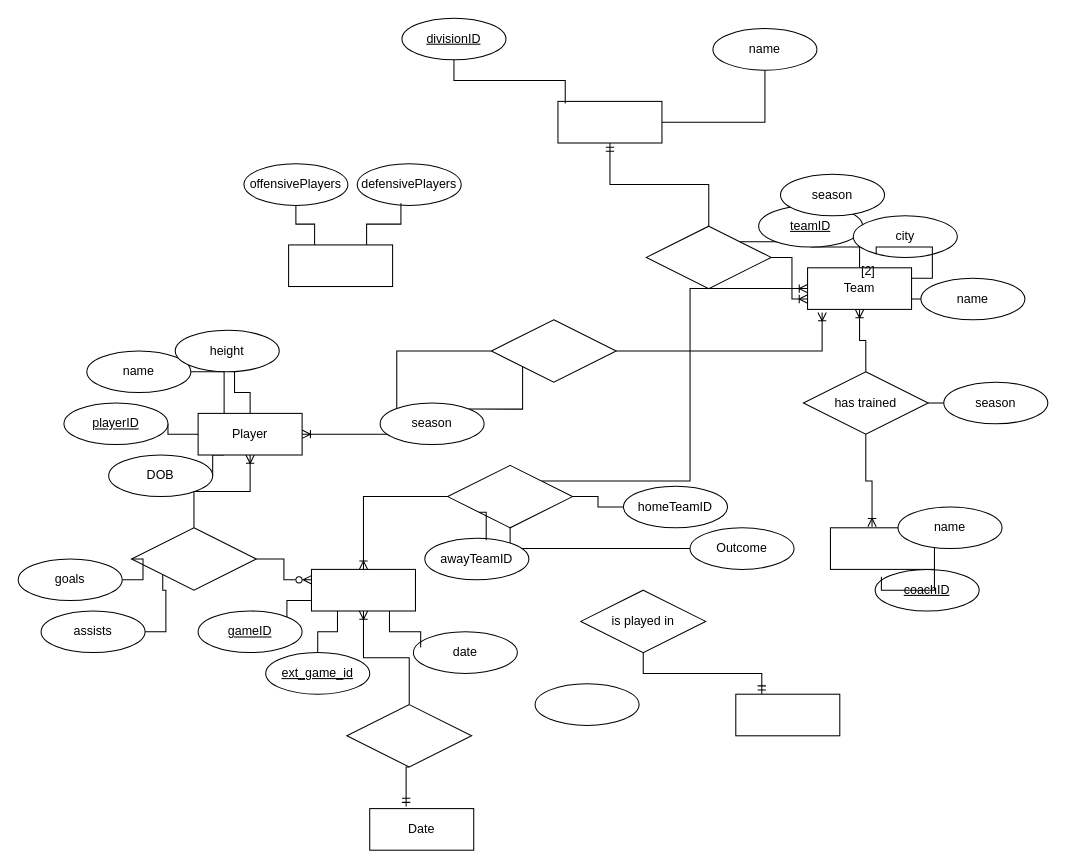
Image size: 1066x868. Some labels were removed from this diagram. Each missing label, with the centre of its shape:
Attribute: (x=586, y=704)
belongs to: (x=708, y=257)
Coach: (x=881, y=548)
Division: (x=609, y=121)
Game: (x=362, y=589)
has been part of: (x=553, y=350)
occurs on: (x=409, y=735)
opposes: (x=510, y=496)
Points: (x=340, y=265)
scores/stats: (x=193, y=558)
Stadium: (x=787, y=714)
